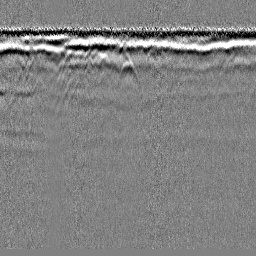cavity: (118, 61, 138, 85)
